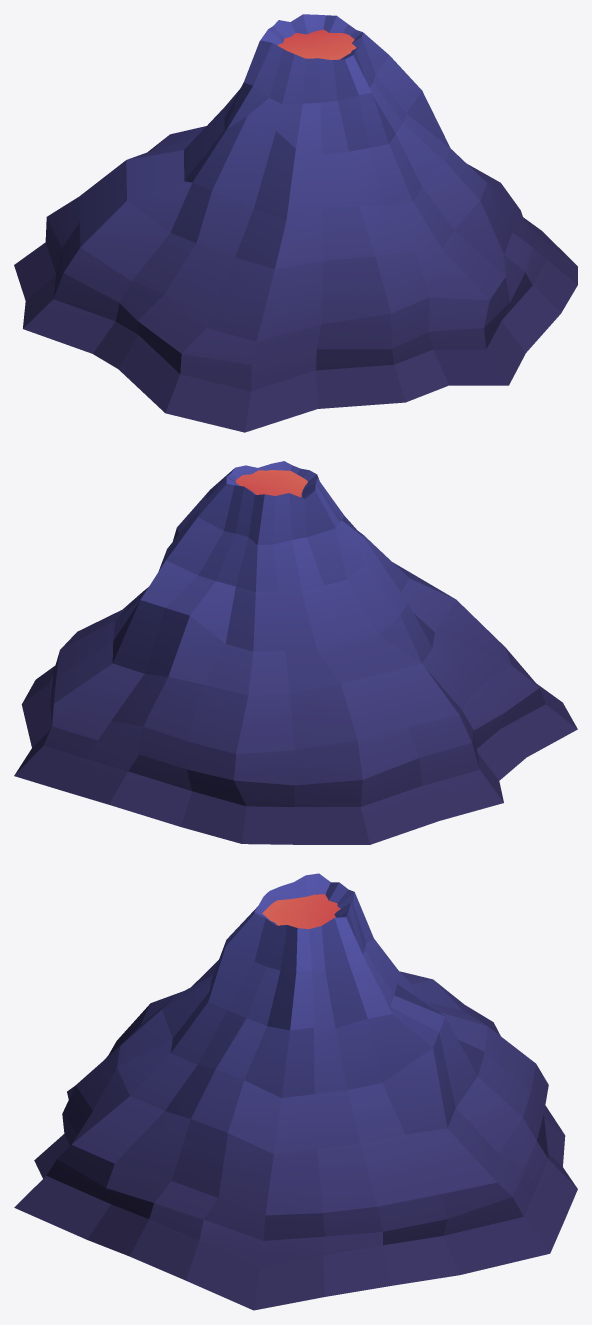
File: Volcan_01.fbx
The picture shows the model from 3 angles, top to bottom: view 1: azimuth 30°, elevation 25°; view 2: azimuth 150°, elevation 25°; view 3: azimuth 270°, elevation 25°; orthographic projection. The views are drawn at different scales.
Visible parts, largest first — view 1: Cylinder.106; view 2: Cylinder.106; view 3: Cylinder.106.
Boxes of the visible parts, x1,y1,x2,y2 form: Cylinder.106: (14, 14, 577, 432); Cylinder.106: (14, 461, 577, 844); Cylinder.106: (14, 873, 577, 1310).
Bounding box in the file's own units: 2688 × 1402 × 2470.
